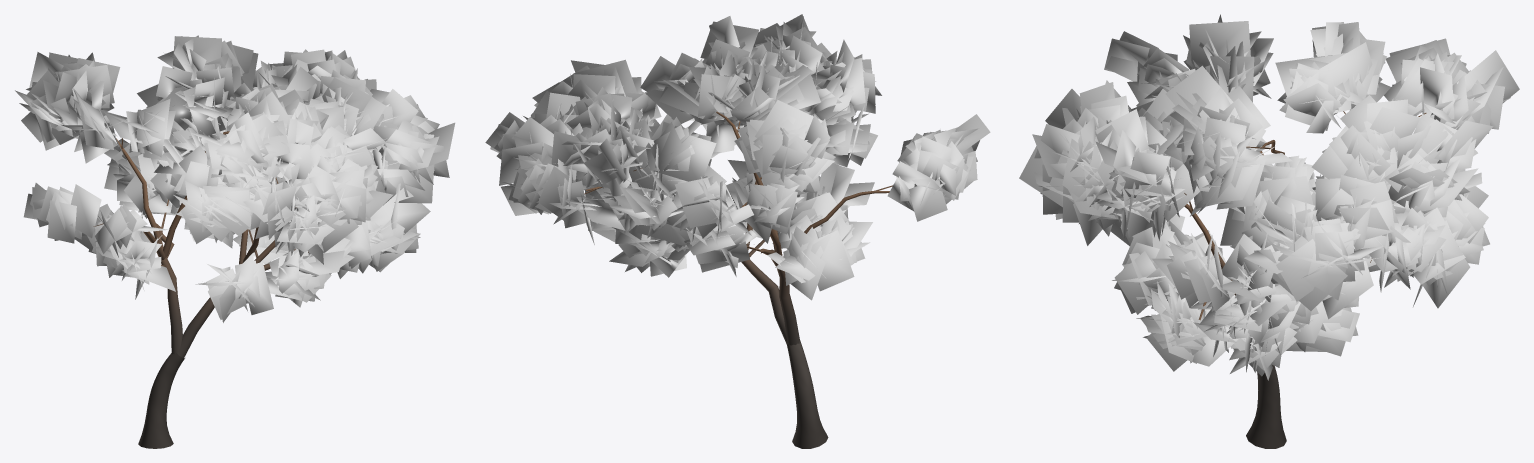
The picture shows the model from 3 angles, left to right: view 1: azimuth 30°, elevation 25°; view 2: azimuth 150°, elevation 25°; view 3: azimuth 270°, elevation 25°; orthographic projection. The views are drawn at different scales.
Parts seen in each view (by area): view 1: crown, trunk; view 2: crown, trunk; view 3: crown, trunk.
Boxes of the visible parts, x1=… form: crown: x1=15, y1=35, x2=455, y2=322; trunk: x1=93, y1=131, x2=308, y2=448; crown: x1=485, y1=14, x2=990, y2=300; trunk: x1=584, y1=111, x2=892, y2=448; crown: x1=1019, y1=14, x2=1519, y2=380; trunk: x1=1184, y1=111, x2=1426, y2=448.
Size of the model in its own units: 13.08 by 10.44 by 11.78.
